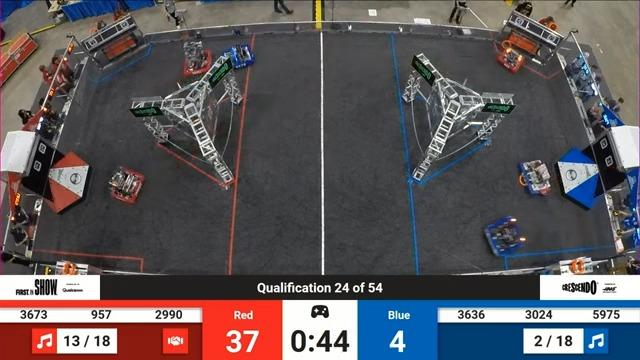robot: (103, 163, 147, 207), (479, 219, 527, 255), (518, 156, 553, 201), (177, 39, 213, 77), (223, 42, 261, 73), (494, 47, 528, 73)
